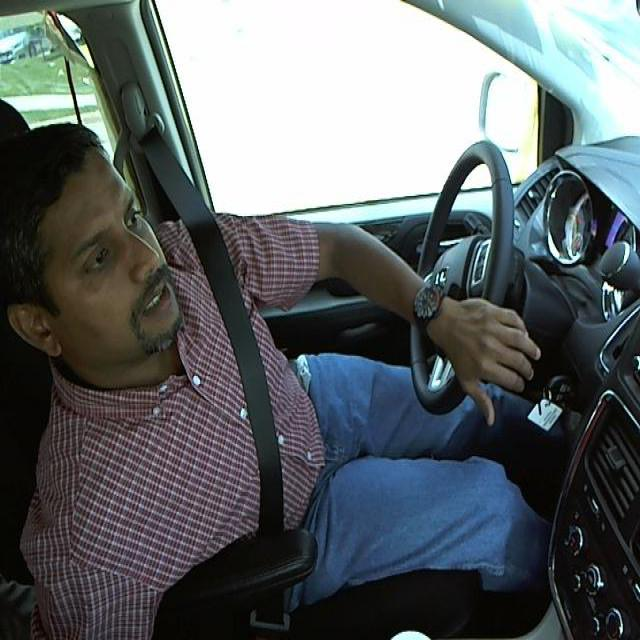seatbelt: (180, 231, 306, 518)
